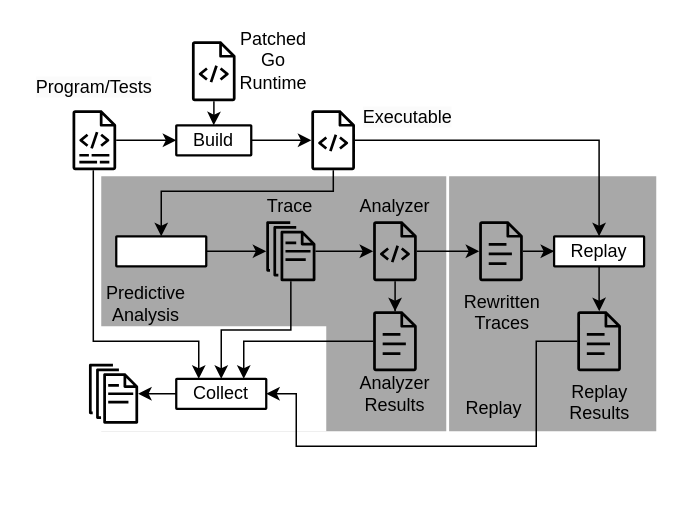
Some shapes in this 683 by 516 pixel diagram are drawn without their labels. The centre of each missing label's shape, as x and y in pixels:
"Execution" belongs at point 160,250.
"Reports and Statistics" belongs at point 112,393.
